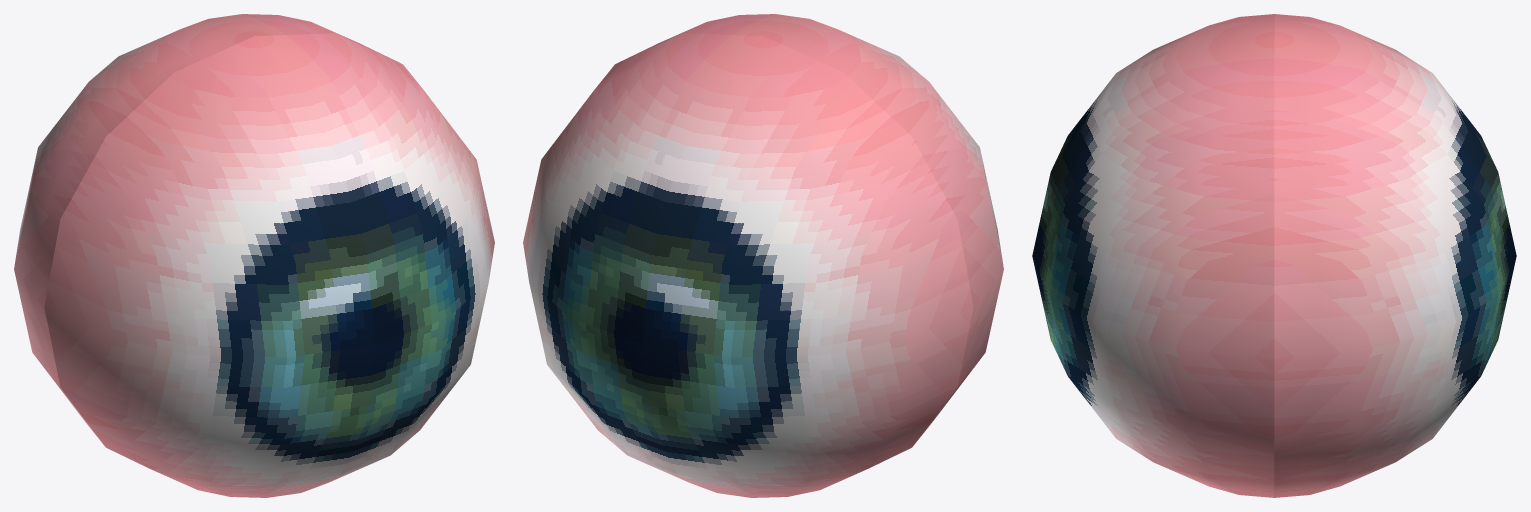
The model's file is pupil_watcher.glb.
3 views of the same model, side by side, from view 1: azimuth 30°, elevation 25°; view 2: azimuth 150°, elevation 25°; view 3: azimuth 270°, elevation 25° (orthographic).
Visible parts, largest first — view 1: eye; view 2: eye; view 3: eye.
Boxes of the visible parts, box(x1,y1,x2,y2) form: eye: box(14, 14, 494, 497); eye: box(523, 14, 1003, 497); eye: box(1032, 14, 1516, 497).
Size of the model in its own units: 1.08 by 1.08 by 1.08.
1 material, 1 textured.
